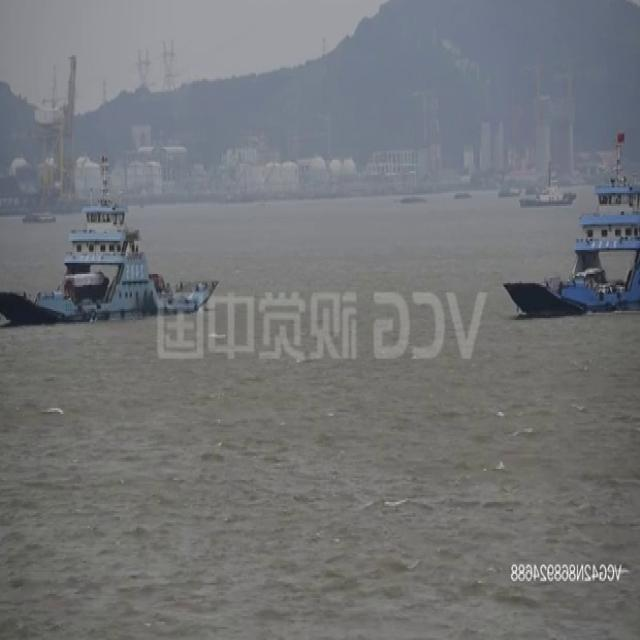cargoship: (11, 170, 238, 321), (505, 180, 640, 318)
